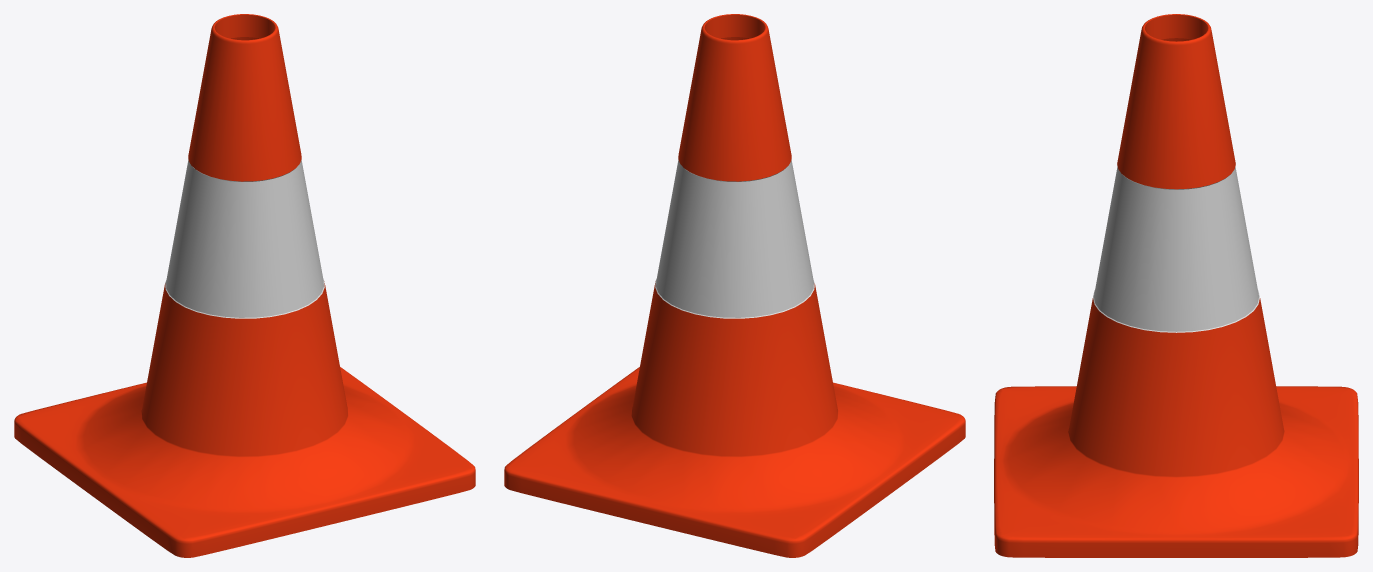
File: KonusSmall.FBX
The picture shows the model from 3 angles, left to right: view 1: azimuth 30°, elevation 25°; view 2: azimuth 150°, elevation 25°; view 3: azimuth 270°, elevation 25°; orthographic projection. The views are drawn at different scales.
Parts seen in each view (by area): view 1: Cone_315; view 2: Cone_315; view 3: Cone_315.
Boxes of the visible parts, box(x1,y1,x2,y2) form: Cone_315: box(14, 14, 475, 557); Cone_315: box(504, 14, 965, 557); Cone_315: box(994, 14, 1358, 557).
Size of the model in its own units: 230 by 315 by 230.
